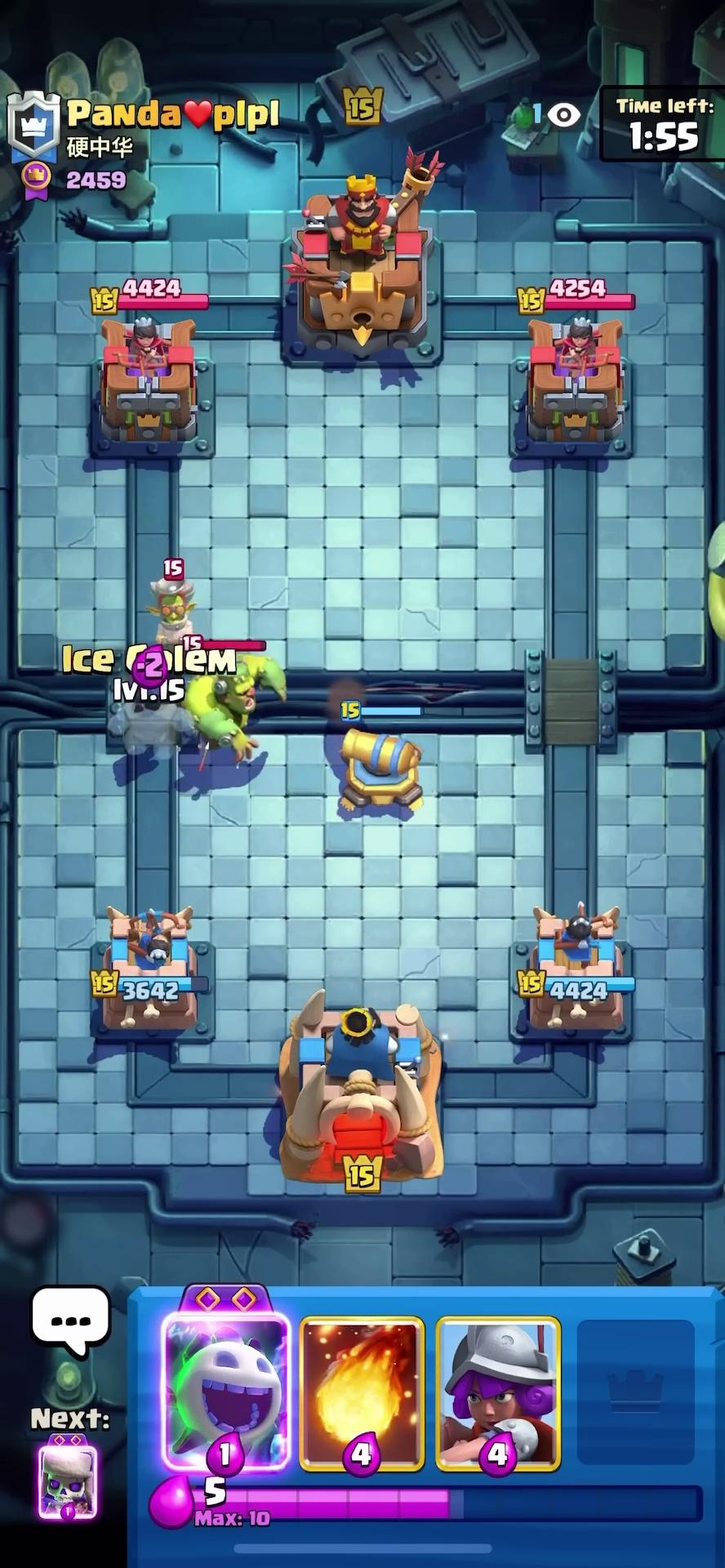cannon: (318, 708, 439, 825)
